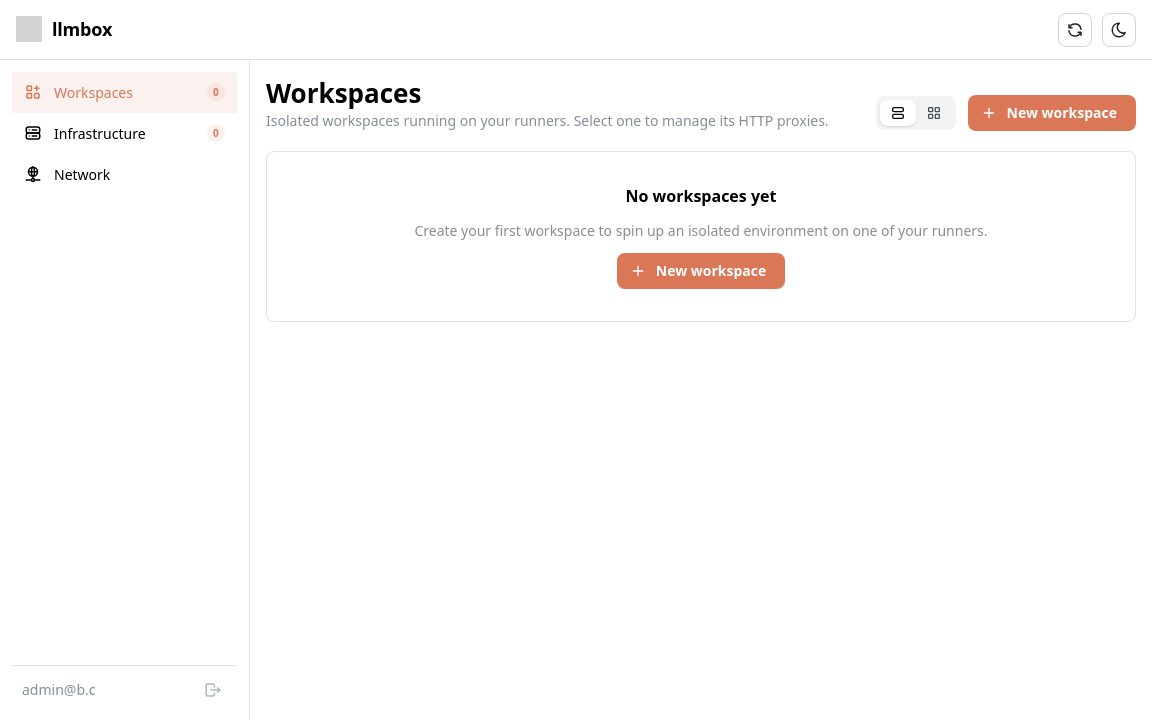
Test: Dashboard › stays and reports the error when logout fails
Expected: the text "admin@b.c" is shown, top-left (22, 680), bottom-right (96, 699)
What coordinates should you click on to do the following:
click the button named "Sign out"
I would click on:
 (213, 690)
Its box is top-left (199, 676), bottom-right (227, 704).
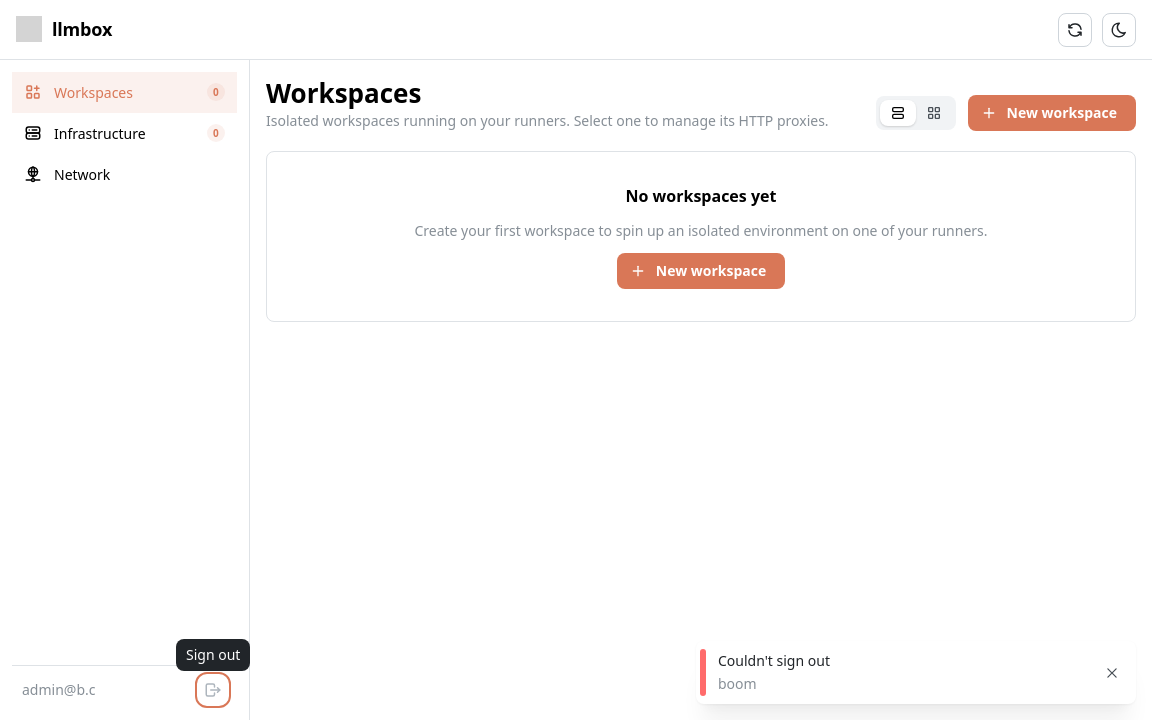
Expected: the text "Couldn't sign out" is shown, top-left (718, 651), bottom-right (830, 670)
